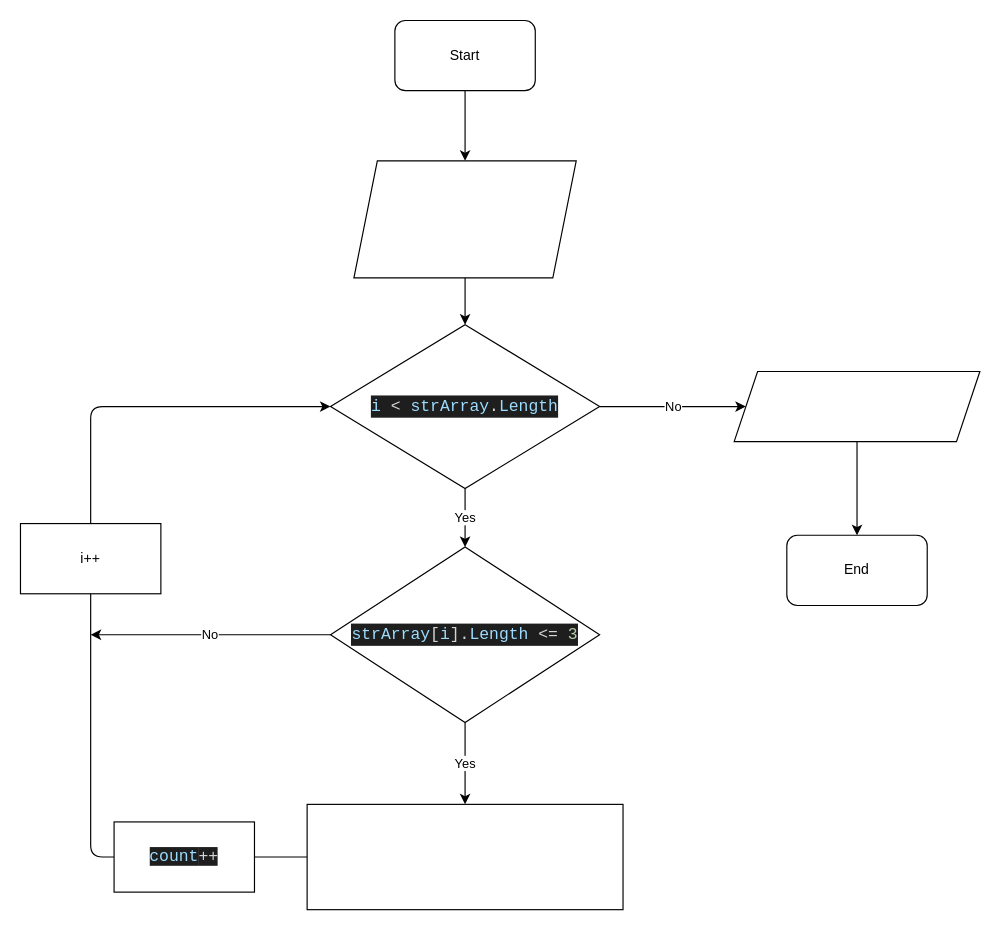
The diagram is 1000 pixels wide and 930 high, and some of its shapes have lost their labels. The shapes that lost their labels are listed below. From the top down, each one's centre as x and y in pixels, then its label:
[464,219]: string [] strArray string [] strArrayNew int count = 0
[856,406]: PrintArray ( strArrayNew )
[464,856]: strArrayNew [ count ] = strArray [ i ]
